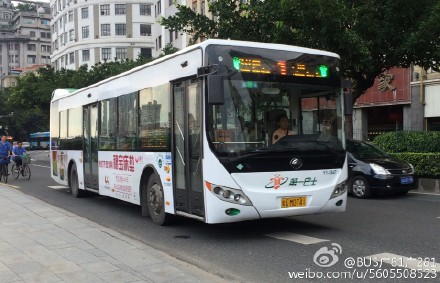bus: (46, 40, 356, 220)
